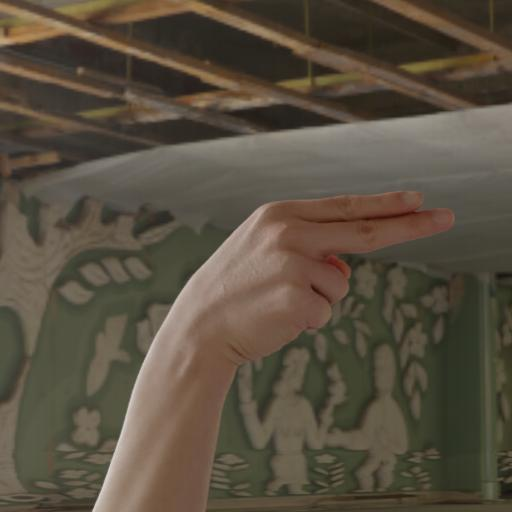H: (181, 171, 463, 359)
